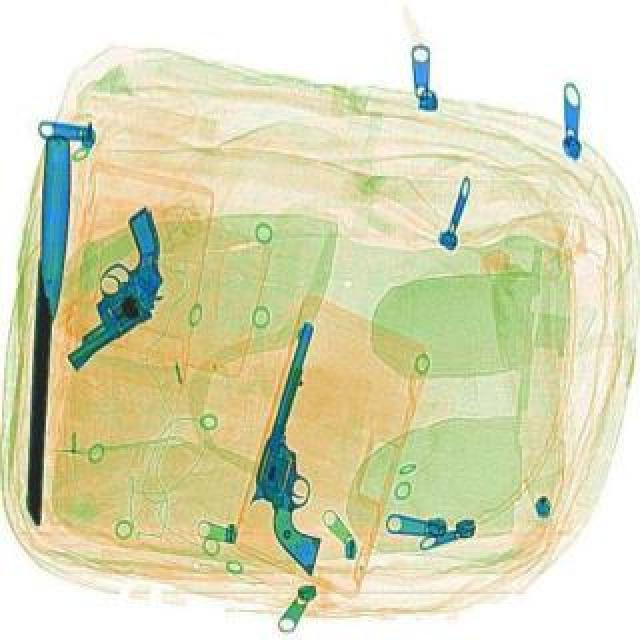gun: (232, 320, 390, 574), (18, 204, 210, 368)
knife: (30, 134, 74, 524)
